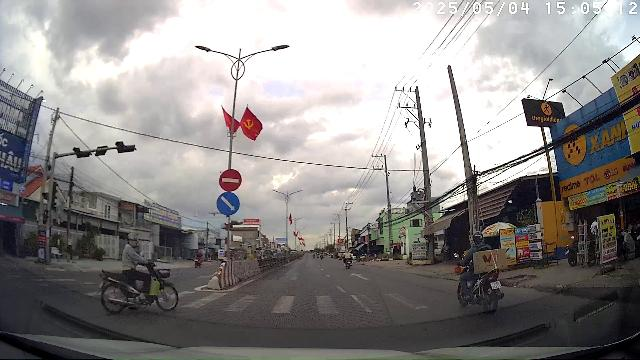102-cam-di-nguoc-chieu: (218, 168, 242, 190)
302a-huong-phai-di-vong-chuong-ngai-vat-1: (217, 192, 240, 214)
